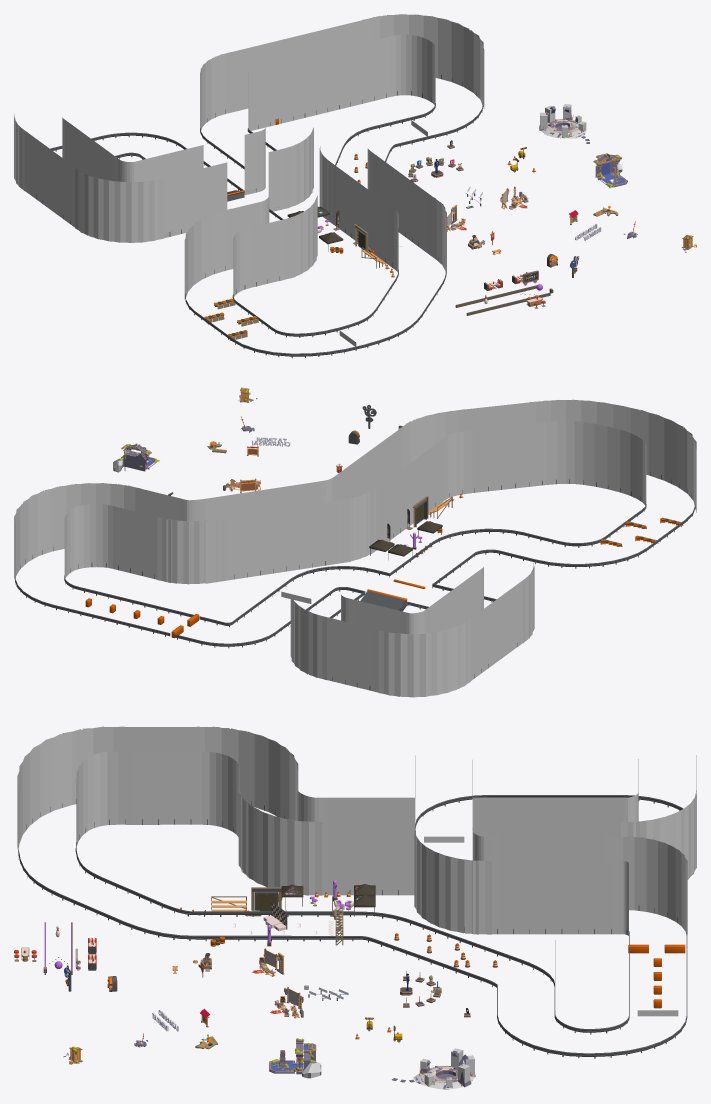
File: areas-compressed.glb
3 renders of one model, top to bottom at view 1: azimuth 30°, elevation 25°; view 2: azimuth 150°, elevation 25°; view 3: azimuth 270°, elevation 25°, orthographic. The views are drawn at different scales.
Parts seen in each view (by area): view 1: trimesh, refRailsPhysicalFixed, Cube.089, refBumpersPhysicalKinematicPositionBased, blocks; view 2: trimesh, refRailsPhysicalFixed, Cube.089, jump, Cube.088; view 3: trimesh, refRailsPhysicalFixed, Cube.088, Cube.089, Cube.173.
Part boxes in pixels (x1,y1,x2,y2): trimesh: [14, 14, 484, 299]; refRailsPhysicalFixed: [36, 75, 483, 358]; Cube.089: [593, 153, 627, 188]; refBumpersPhysicalKinematicPositionBased: [455, 285, 550, 315]; blocks: [204, 298, 258, 340]; trimesh: [14, 399, 696, 697]; refRailsPhysicalFixed: [15, 471, 695, 690]; Cube.089: [113, 443, 159, 471]; jump: [360, 579, 425, 611]; Cube.088: [370, 496, 452, 560]; trimesh: [17, 726, 696, 1009]; refRailsPhysicalFixed: [18, 795, 687, 1058]; Cube.088: [210, 887, 374, 946]; Cube.089: [269, 1038, 321, 1078]; Cube.173: [392, 1051, 475, 1088].
Size of the model in its own units: 169 by 22.1 by 169.
Materials: 46 (13 with a texture image).
